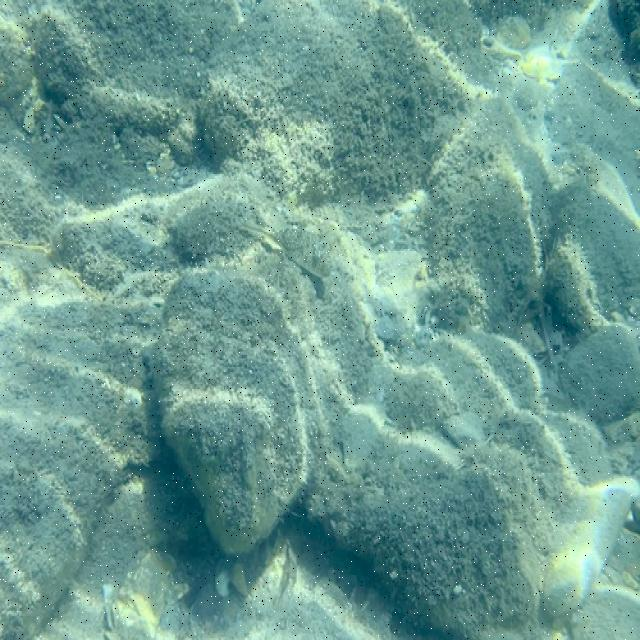Balik: (252, 225, 330, 273)
